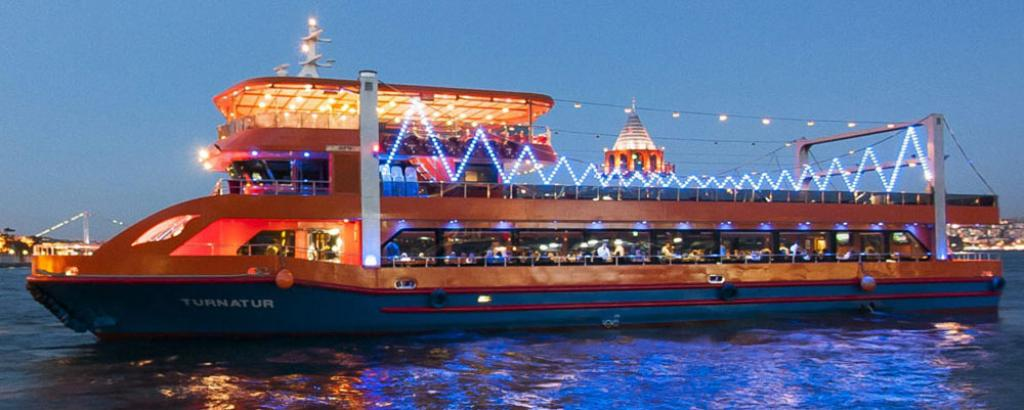PassengerShip: (15, 14, 1007, 350)
